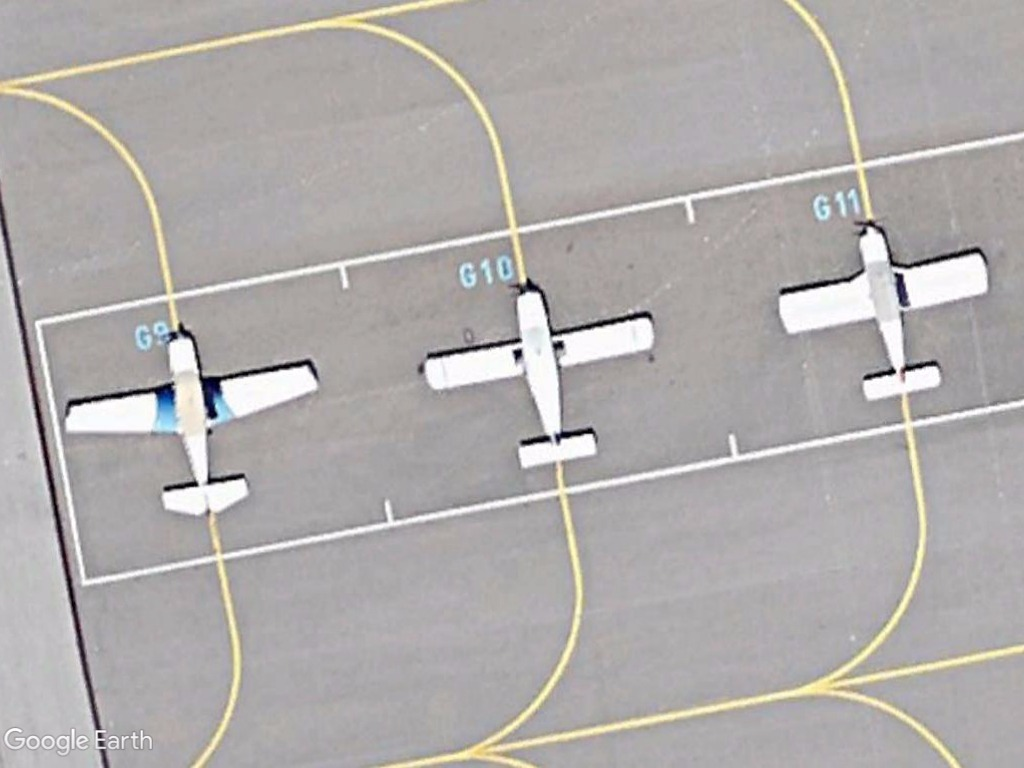trainer: (54, 324, 326, 527), (414, 280, 666, 483), (773, 217, 995, 411)
